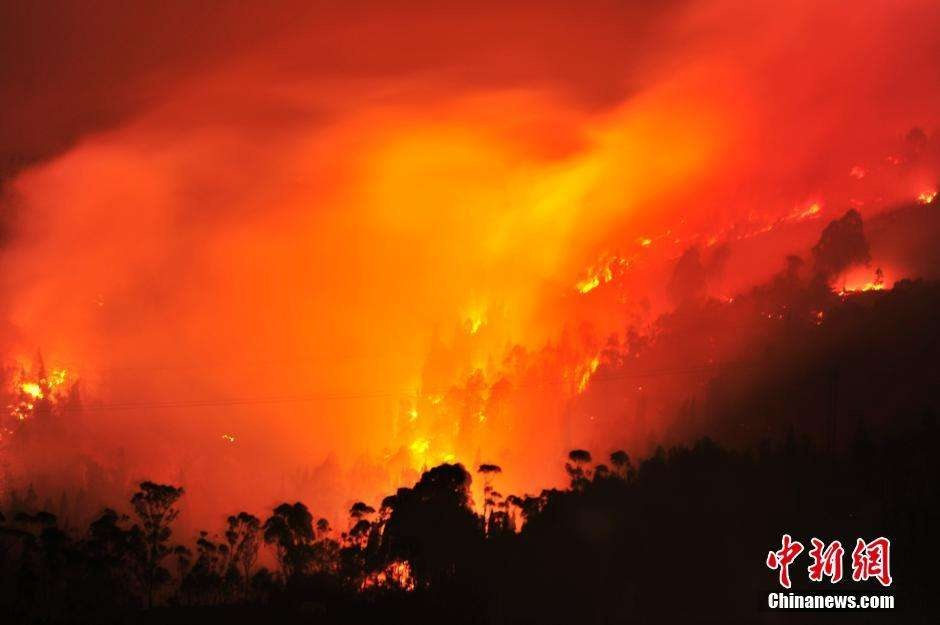fire: (394, 289, 500, 484), (570, 226, 659, 309), (12, 358, 75, 427), (571, 349, 615, 398), (833, 271, 888, 297)
